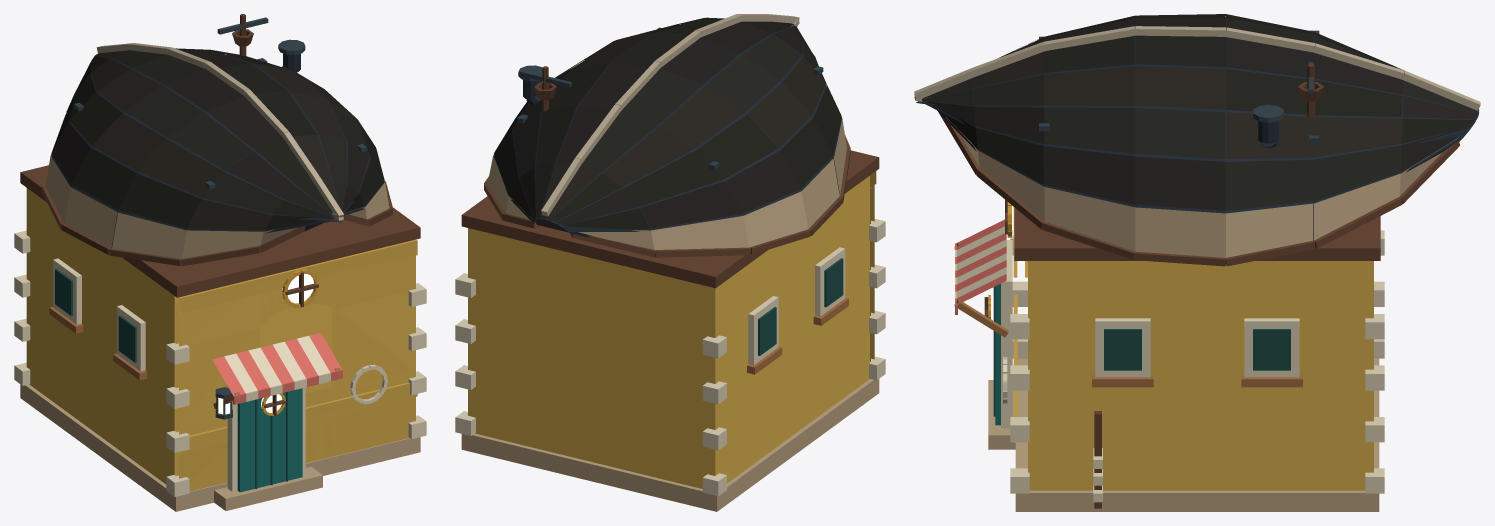
The model's file is net-loft-medium-butter.glb.
The picture shows the model from 3 angles, left to right: view 1: azimuth 30°, elevation 25°; view 2: azimuth 150°, elevation 25°; view 3: azimuth 270°, elevation 25°; orthographic projection. The views are drawn at different scales.
Parts seen in each view (by area): view 1: net-loft-medium-butter; view 2: net-loft-medium-butter; view 3: net-loft-medium-butter.
Part boxes in pixels (box(x1,y1,x2,y2)): net-loft-medium-butter: box(14, 14, 426, 511); net-loft-medium-butter: box(455, 14, 885, 511); net-loft-medium-butter: box(914, 14, 1480, 511).
Size of the model in its own units: 4.51 by 5.23 by 6.43.
